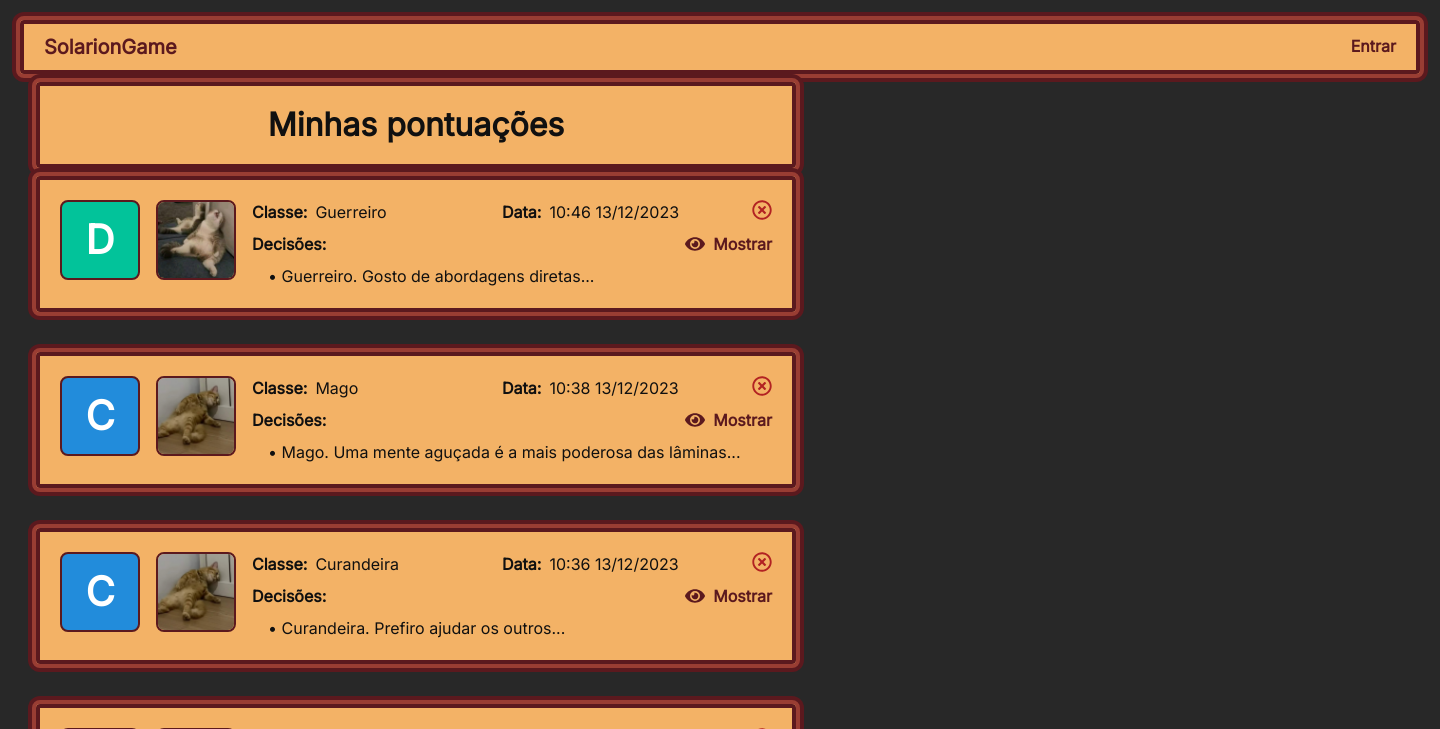
Test: MyScores Page › when click to remove a score card › should open the delete modal
The width and height of the screenshot is (1440, 729).
Click the 1st icon: (762, 210) [752,200,772,220]
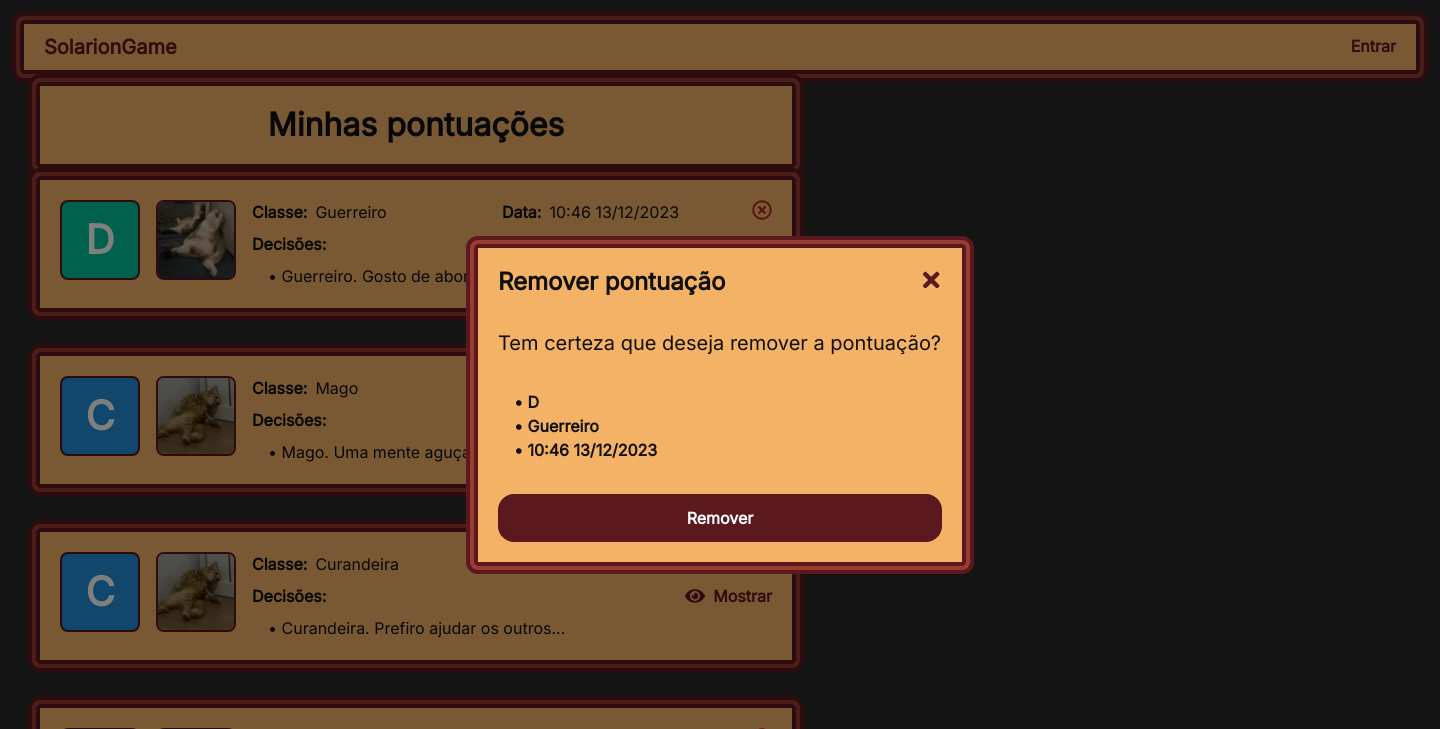
Check: the dialog is shown, box [470,240,970,570]
Check: the heading "Remover pontuação" is shown, box [498,267,725,296]
Check: the element showing "Tem certeza que deseja remover a pontuação?" is shown, box [498,328,942,358]
